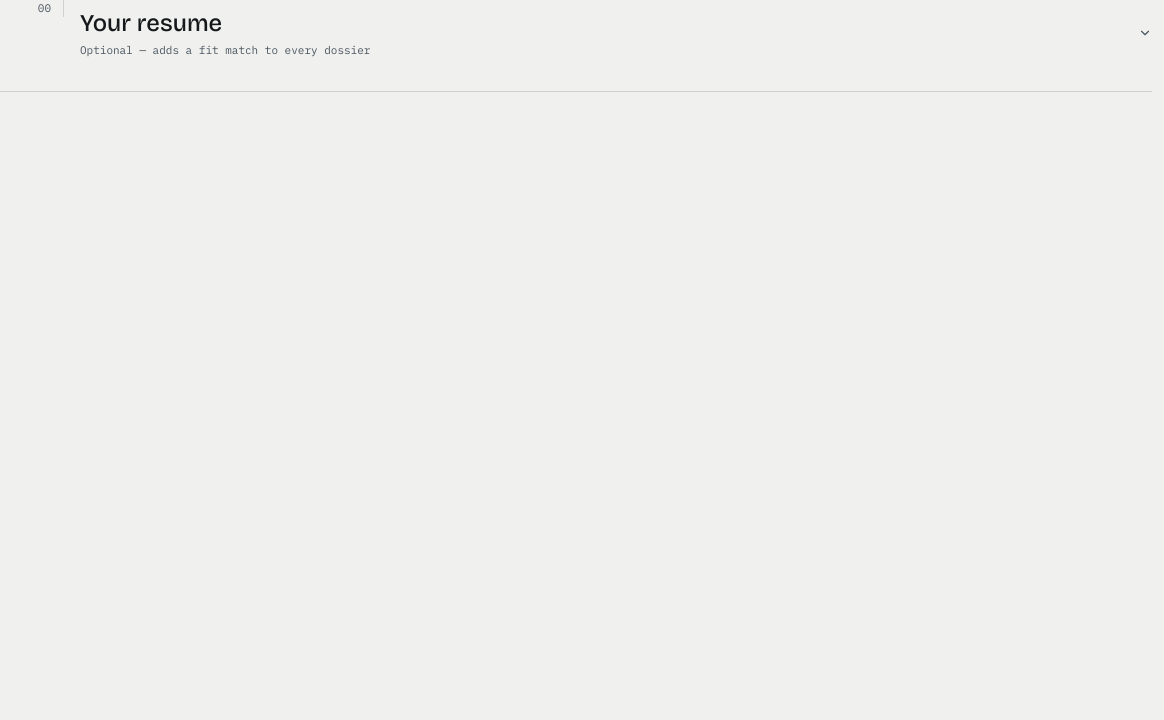
Scenario: ResumePanel — account region (reactive) › Back on the account form returns to the quiet anonymous state
Click the button "Your resume Optional — adds a fit match to every dossier" at [151, 23], box [80,0,1152,66]
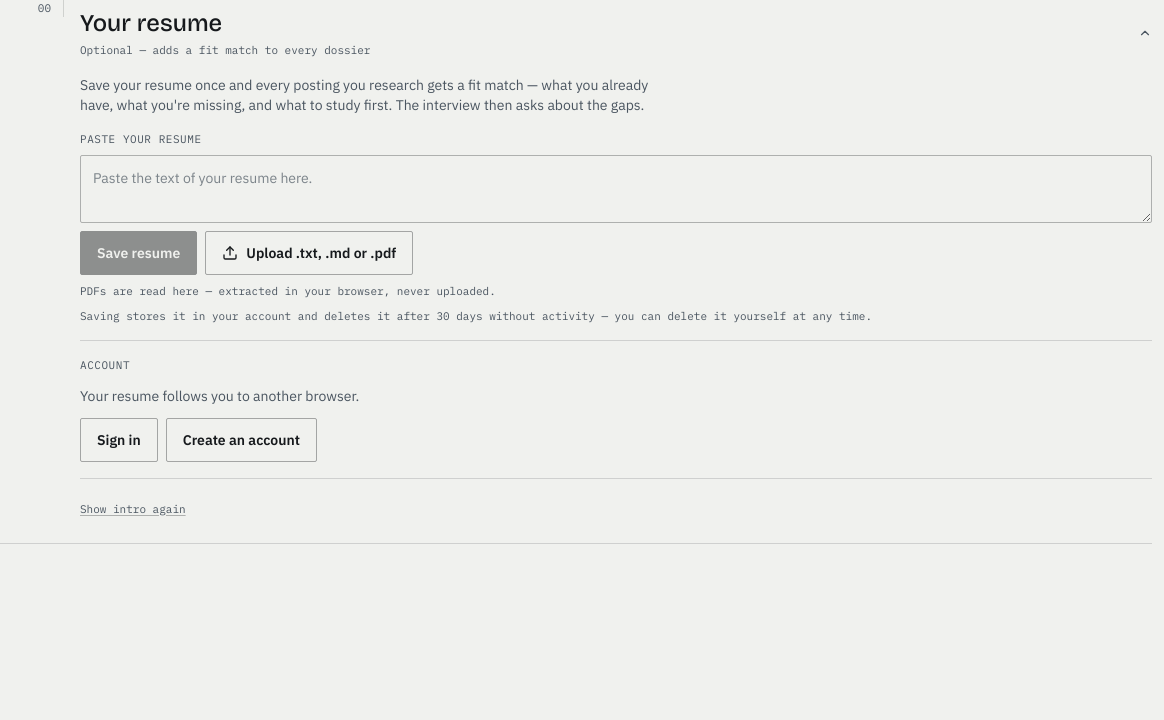
Click the button "Sign in" at [119, 440], box [80,418,158,462]
(page scrolled)
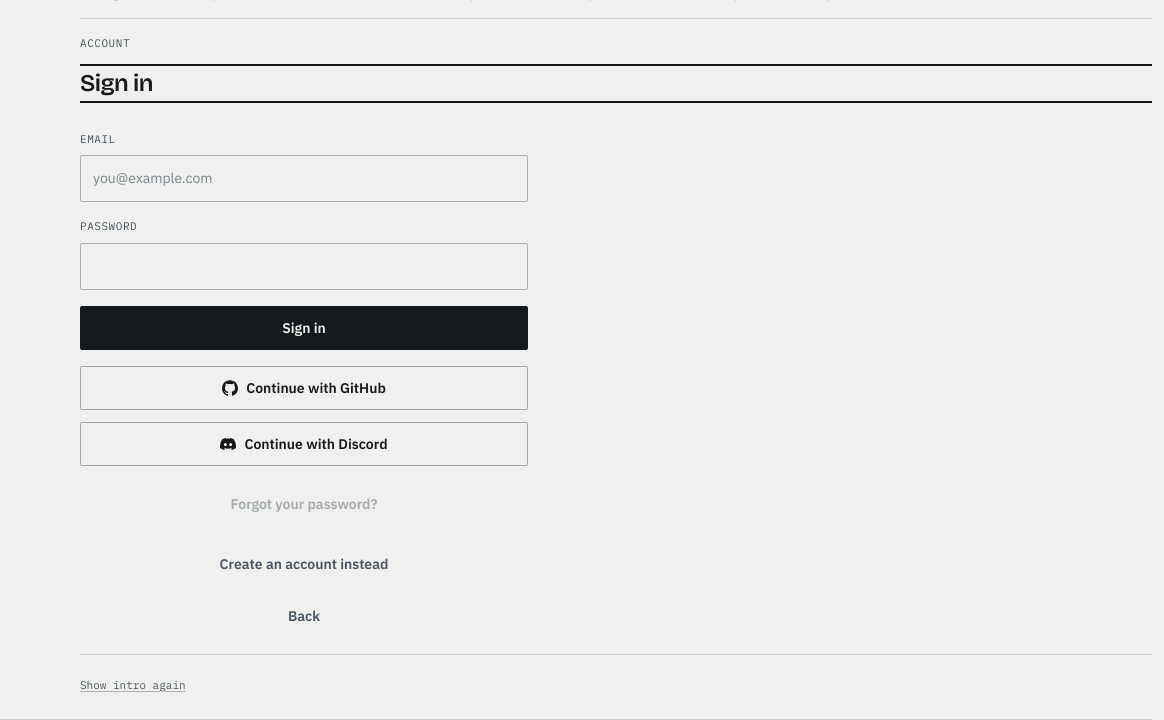
Now the heading "Sign in" is shown, box [80,68,153,96]
Click the button "Back" at [304, 616], box [80,594,528,638]
(page scrolled)
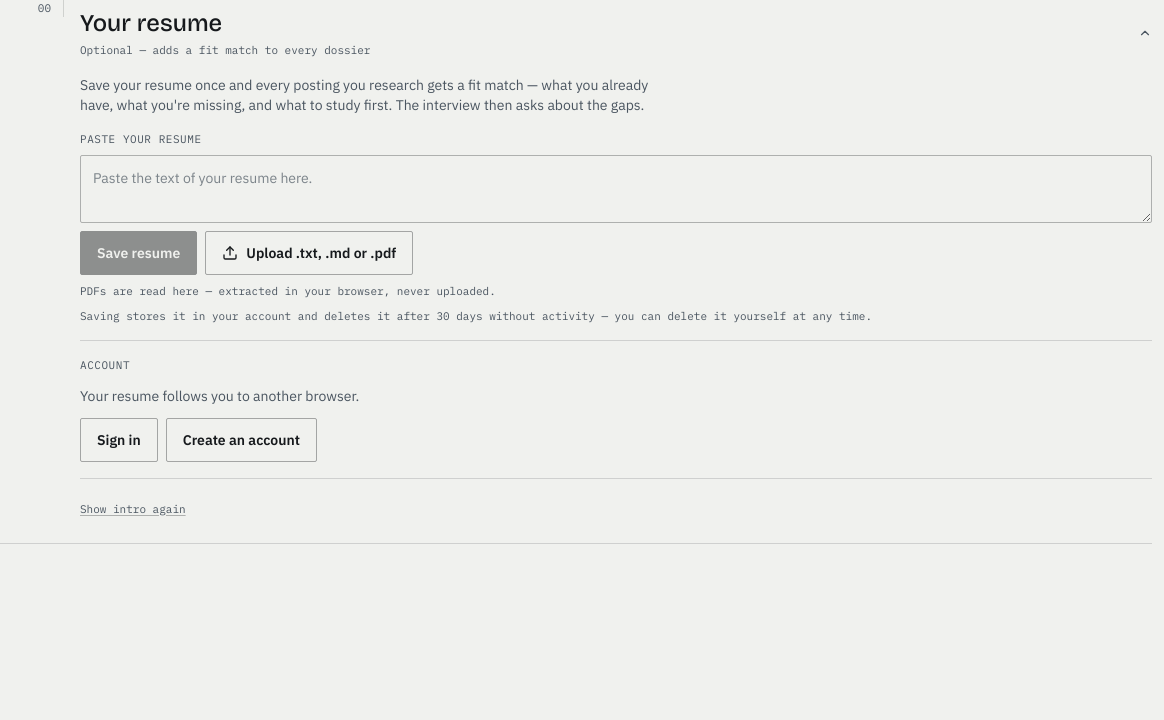
Now the text "Your resume follows you to another browser." is shown, box [80,386,359,404]
